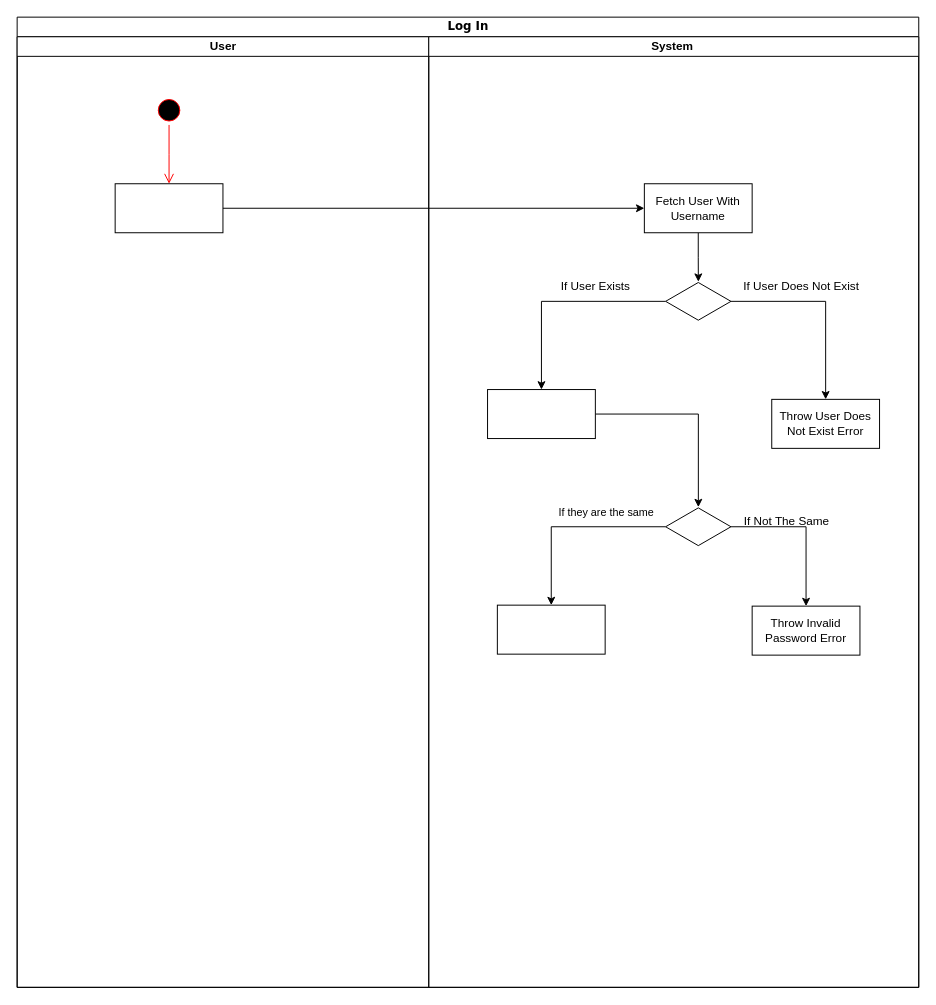
The diagram is 936 pixels wide and 1005 high, and some of its shapes have lost their labels. The centre of each missing label's shape, as x and y in pixels:
"Compare Hashed Password To Provided Password" belongs at pixel 541 414.
"Send JWT" belongs at pixel 550 629.
"Send Username, Email And Password" belongs at pixel 168 208.
